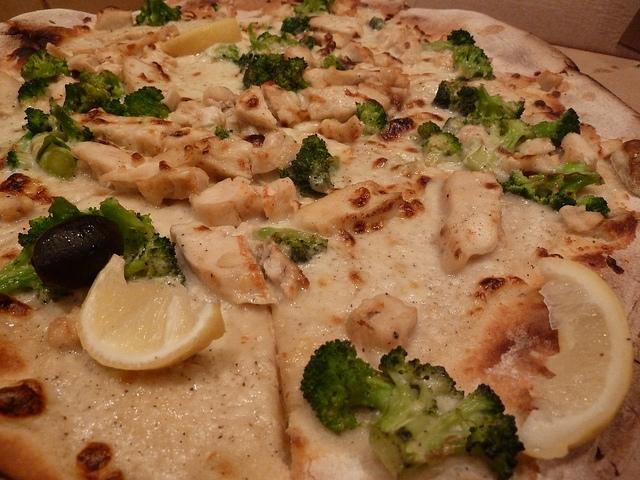broccoli: (300, 340, 396, 434), (497, 162, 609, 218), (382, 363, 464, 433), (0, 216, 62, 298), (279, 133, 338, 200), (99, 198, 155, 260), (124, 232, 186, 284), (242, 53, 315, 93), (258, 227, 328, 264), (466, 86, 526, 127), (106, 85, 170, 120), (49, 98, 95, 142), (62, 82, 112, 118), (531, 108, 580, 142), (20, 48, 72, 79), (497, 118, 537, 156), (452, 44, 494, 80), (79, 70, 126, 98), (136, 0, 182, 26), (356, 101, 388, 134), (423, 132, 464, 156), (431, 80, 460, 111), (17, 78, 49, 106), (280, 13, 310, 36), (294, 0, 332, 17), (212, 44, 240, 62), (324, 52, 346, 71), (260, 35, 280, 46), (370, 17, 386, 29)
lemon: (518, 256, 634, 460), (76, 252, 226, 372), (160, 18, 242, 57)
